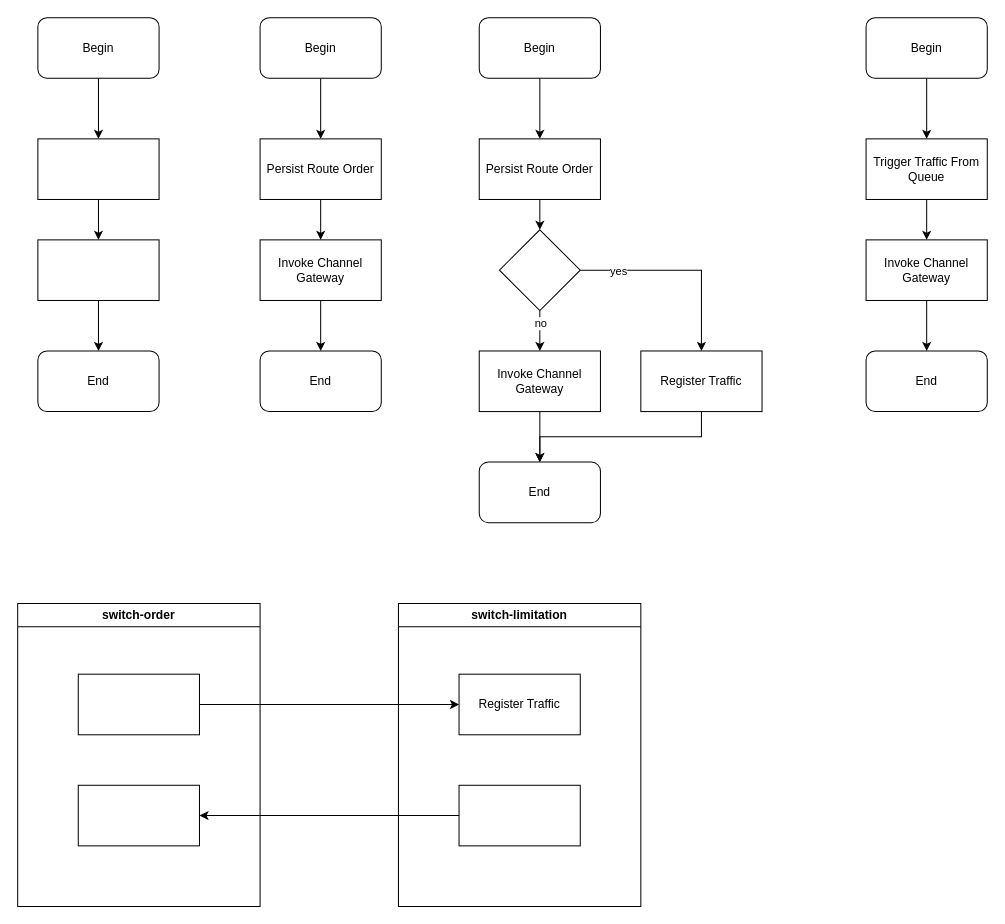
The diagram is 1005 pixels wide and 924 high, and some of its shapes have lost their labels. Each missing label, with the centre of its shape:
Invoke Register Traffic: pixel 138 704
limit or not？: pixel 539 270
Operation A: pixel 98 168
Operation B: pixel 98 269
Resume Previous Traffic: pixel 138 815
Traffic Callback: pixel 519 815
